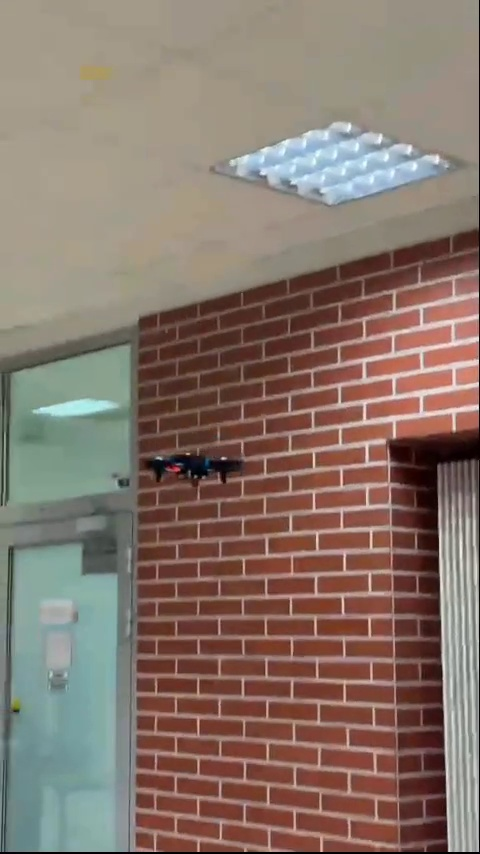drone: (147, 447, 247, 492)
